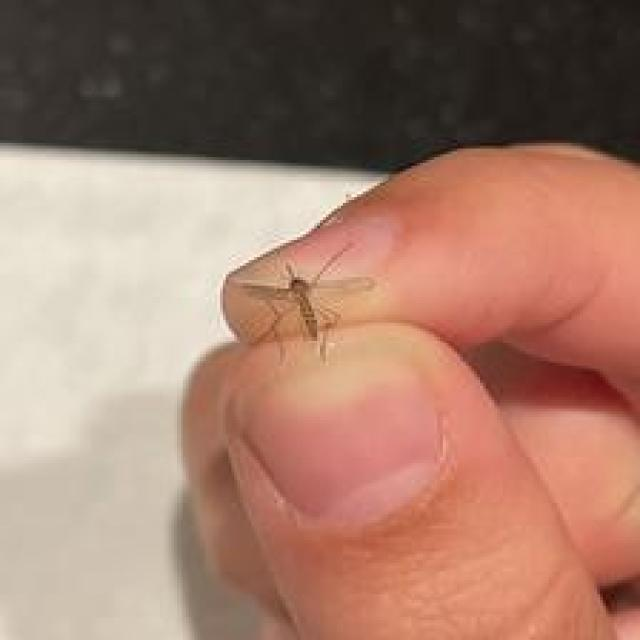Culex: (233, 240, 376, 363)
